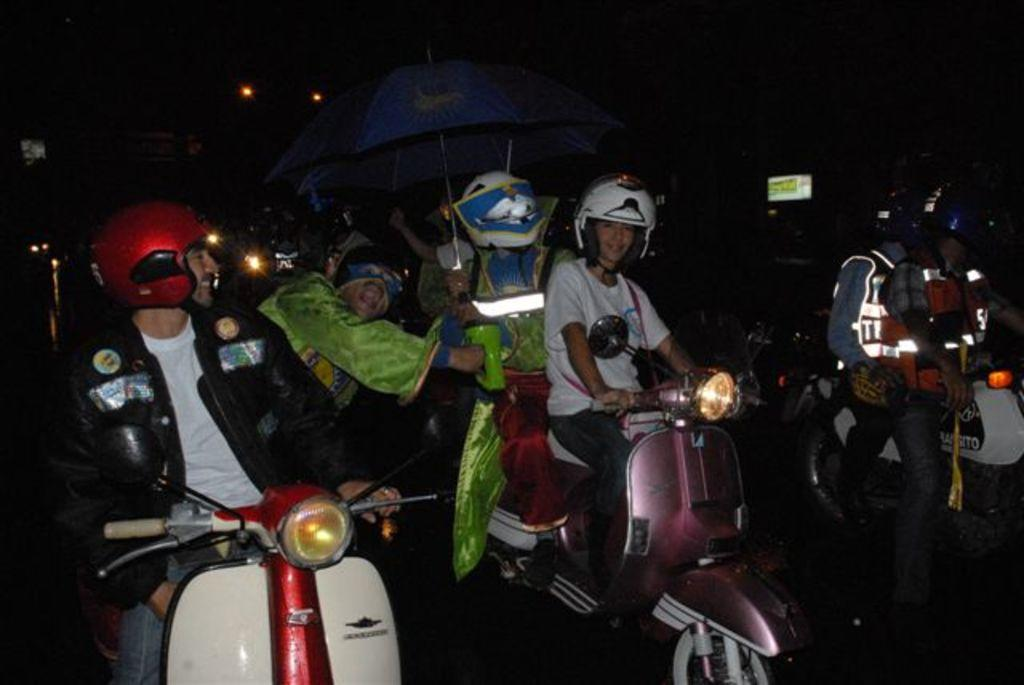helmet: (92, 199, 221, 310), (573, 173, 657, 264), (460, 171, 541, 249)
